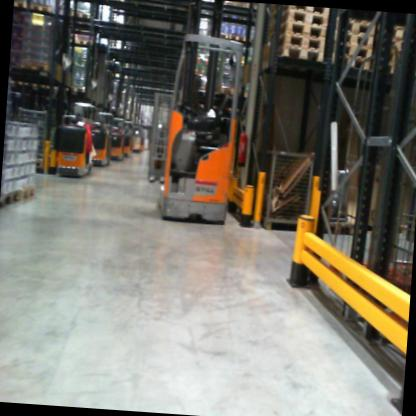forklift: (157, 4, 253, 230), (55, 100, 101, 180), (78, 92, 115, 162), (105, 111, 127, 162), (117, 113, 136, 159)
pallet: (14, 0, 93, 21), (264, 19, 329, 44), (266, 45, 324, 70), (269, 7, 329, 29), (326, 48, 372, 73), (266, 32, 329, 50), (328, 38, 375, 58), (329, 30, 378, 49), (376, 60, 416, 79), (0, 186, 25, 216), (331, 18, 380, 33), (381, 48, 416, 69), (271, 6, 330, 18), (385, 18, 416, 40), (17, 183, 42, 210), (20, 60, 51, 78), (27, 0, 55, 18), (388, 36, 416, 53), (22, 77, 46, 93), (45, 79, 61, 96), (66, 87, 85, 98), (9, 77, 27, 88), (73, 37, 92, 46)
